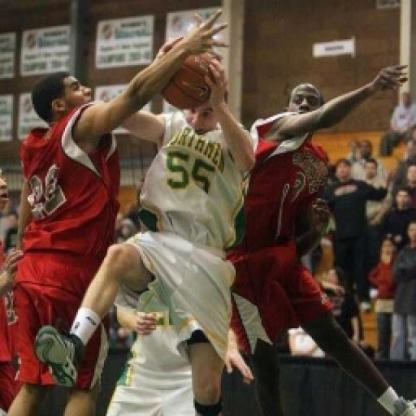basketball: (154, 36, 220, 104)
